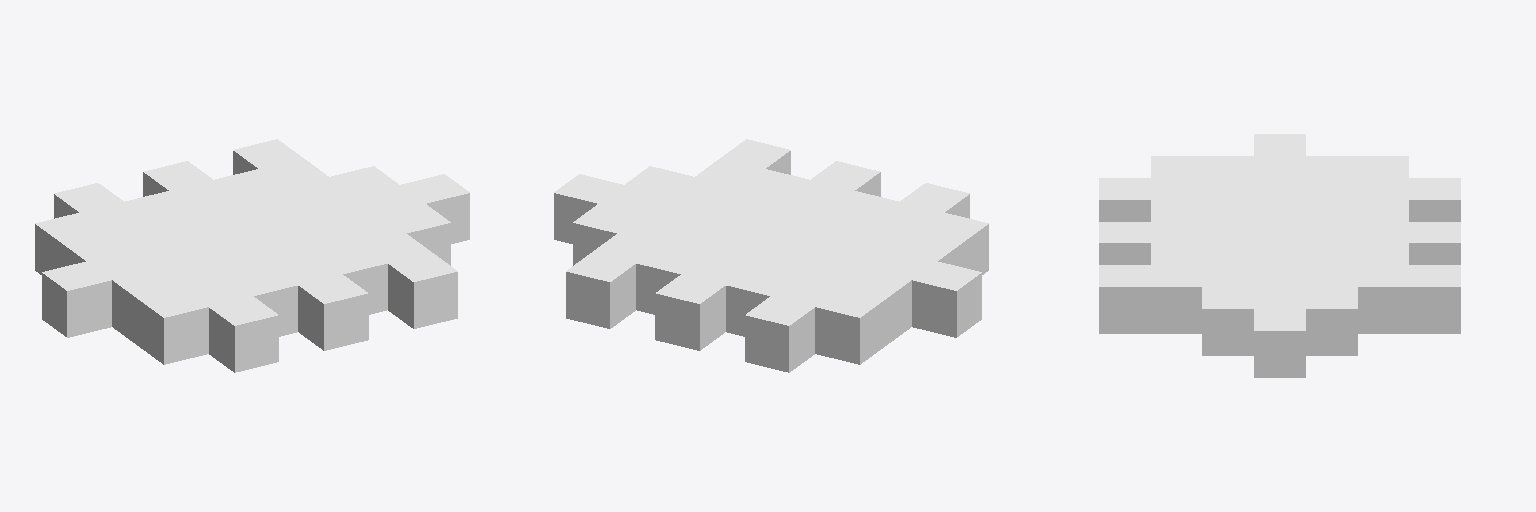
Rendered from Dragon_large-6.obj.
3 views of the same model, side by side, from view 1: azimuth 30°, elevation 25°; view 2: azimuth 150°, elevation 25°; view 3: azimuth 270°, elevation 25° (orthographic).
Visible parts, largest first — view 1: object 1; view 2: object 1; view 3: object 1.
Part boxes in pixels (bbox=[...]): object 1: bbox=[35, 139, 469, 372]; object 1: bbox=[554, 139, 988, 372]; object 1: bbox=[1099, 134, 1460, 377].
Bounding box in the file's own units: 0.9 × 0.1 × 0.7.